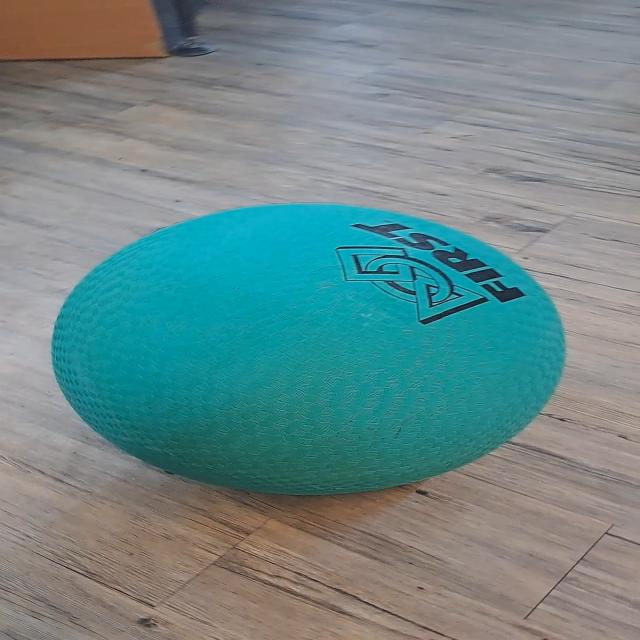ALGAE: (48, 201, 568, 497)
